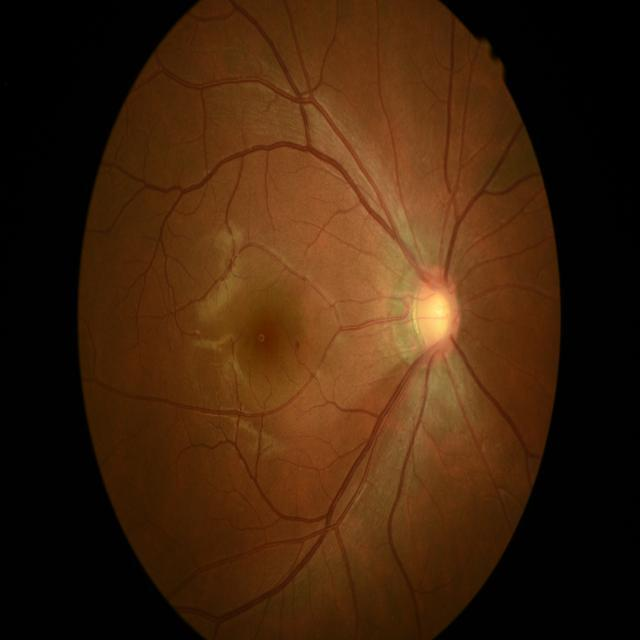cup: (424, 286, 451, 342)
disk: (412, 264, 462, 360)
